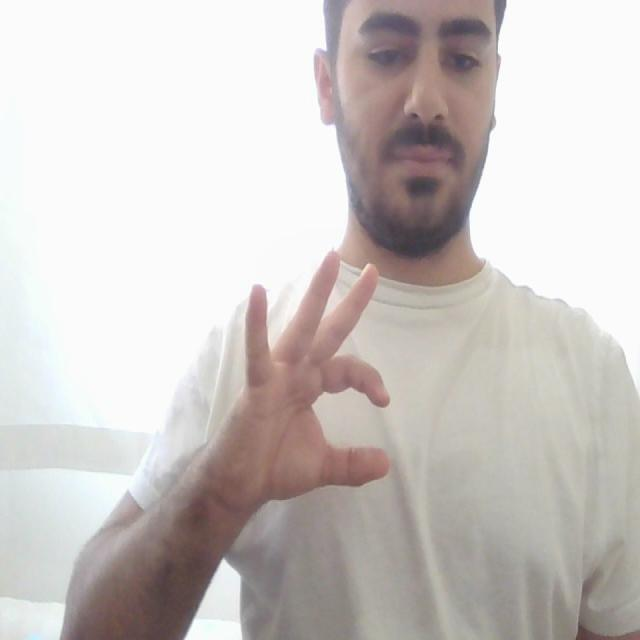Tuvalet: (196, 235, 428, 534)
